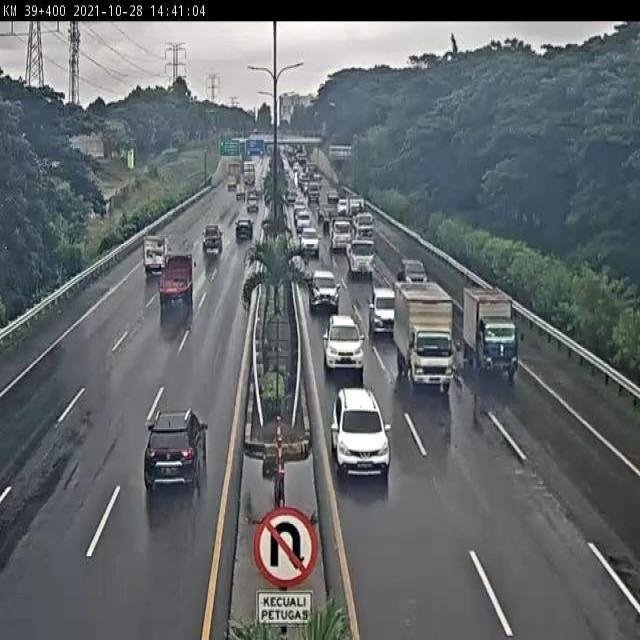car: (142, 408, 210, 496), (330, 386, 391, 482), (322, 313, 365, 379), (308, 267, 340, 313), (367, 285, 392, 336), (398, 257, 428, 287)
mid truck: (157, 249, 195, 304)
small truck: (141, 232, 170, 275)
truck-m-: (394, 280, 455, 395)
truck-s-: (462, 285, 520, 384)
